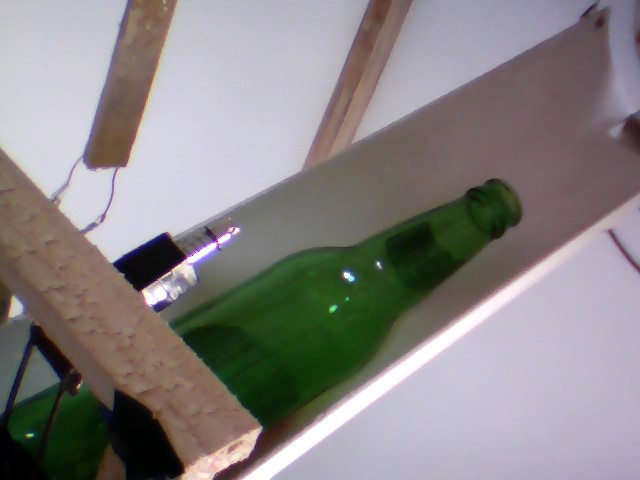vidrio: (174, 178, 532, 424)
